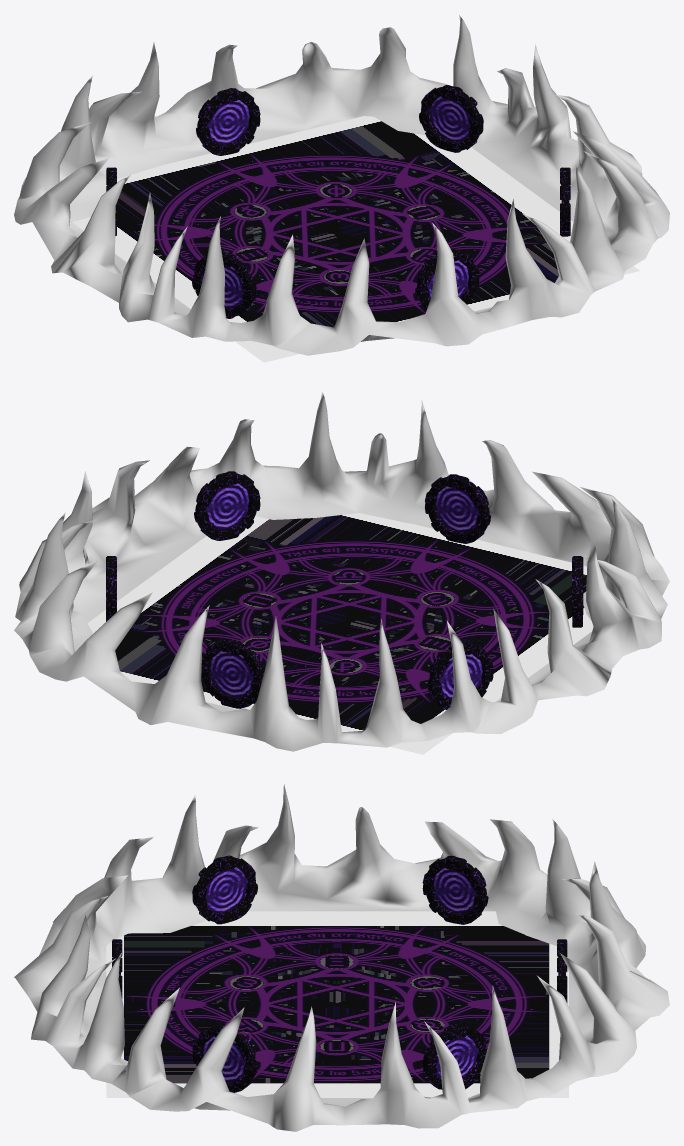
File: mageArena.fbx
3 renders of one model, top to bottom at view 1: azimuth 30°, elevation 25°; view 2: azimuth 150°, elevation 25°; view 3: azimuth 270°, elevation 25°, orthographic. The views are drawn at different scales.
Parts seen in each view (by area): view 1: ground, mage_circle, BrickSmall_low_MagicStoneMoss_0.001; view 2: ground, mage_circle, BrickSmall_low_MagicStoneMoss_0.001; view 3: ground, mage_circle, BrickSmall_low_MagicStoneMoss_0.001.
Part boxes in pixels (x1,y1,x2,y2): ground: [14, 15, 669, 355]; mage_circle: [72, 116, 639, 362]; BrickSmall_low_MagicStoneMoss_0.001: [106, 85, 570, 318]; ground: [14, 391, 669, 751]; mage_circle: [87, 513, 593, 754]; BrickSmall_low_MagicStoneMoss_0.001: [106, 471, 583, 709]; ground: [14, 784, 669, 1131]; mage_circle: [106, 911, 568, 1097]; BrickSmall_low_MagicStoneMoss_0.001: [112, 855, 567, 1092].
Size of the model in its own units: 74.63 by 15.11 by 75.74.
